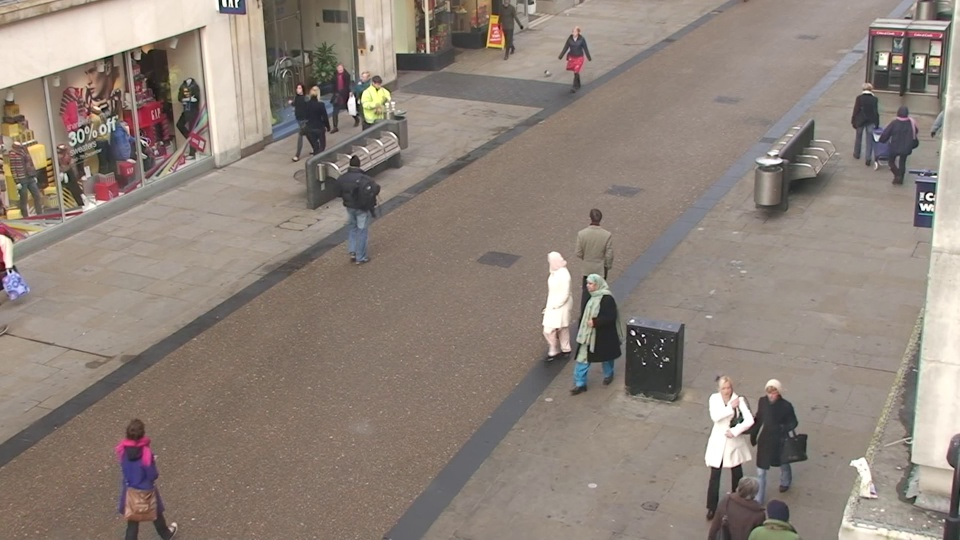pedestrian: (740, 368, 799, 531), (108, 406, 178, 540), (691, 365, 747, 526), (573, 267, 616, 403), (535, 245, 576, 376), (712, 459, 776, 540), (577, 203, 614, 323), (876, 103, 919, 199), (340, 151, 378, 256), (742, 482, 807, 540), (847, 79, 884, 168), (301, 82, 333, 168), (289, 78, 320, 162), (364, 73, 394, 156), (353, 67, 383, 148), (327, 59, 356, 138), (565, 23, 589, 93)
